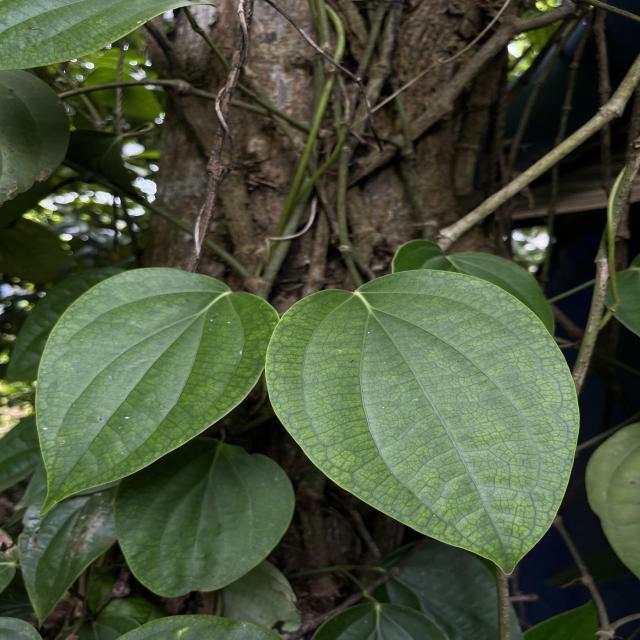Piper nigrum: (264, 266, 583, 578), (32, 266, 280, 518)
